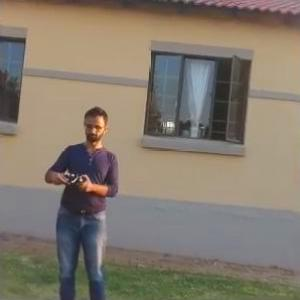follow: (33, 103, 124, 299)
